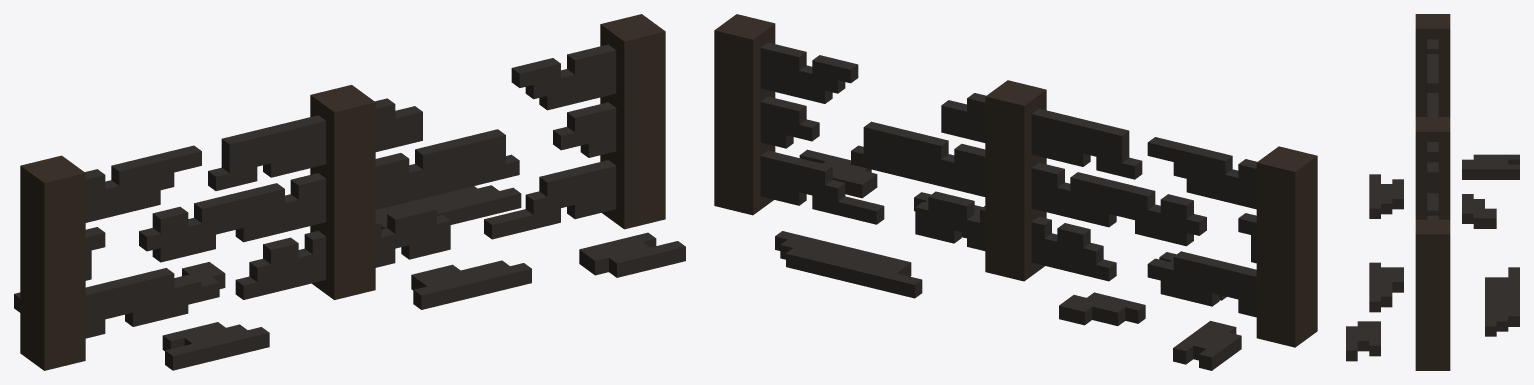
The model's file is Witches Fence.obj.
3 renders of one model, left to right at view 1: azimuth 30°, elevation 25°; view 2: azimuth 150°, elevation 25°; view 3: azimuth 270°, elevation 25°, orthographic. The views are drawn at different scales.
Size of the model in its own units: 4.5 by 1.3 by 1.5.
1 material, 1 textured.
